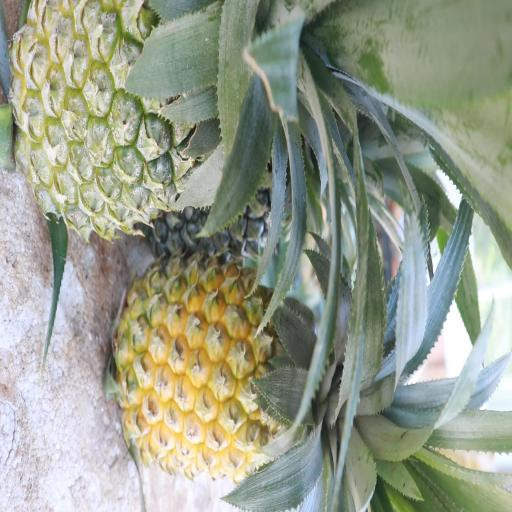------------------------------: (14, 0, 296, 228)
Pineapple - v8 v1: (118, 258, 370, 486)
